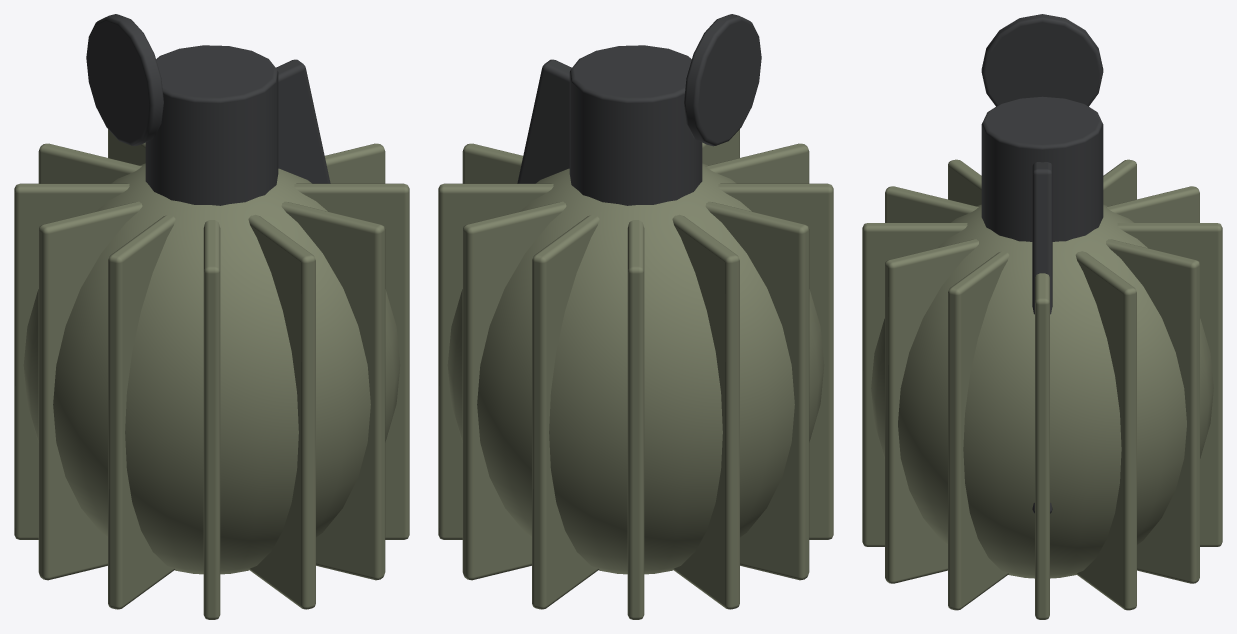
Rendered from shard_grenade.glb.
The picture shows the model from 3 angles, left to right: view 1: azimuth 30°, elevation 25°; view 2: azimuth 150°, elevation 25°; view 3: azimuth 270°, elevation 25°; orthographic projection. The views are drawn at different scales.
Visible parts, largest first — view 1: Body, Seg5, Fuse, Seg4, Seg0, Seg3, Seg1, Ring, Seg2, Spoon; view 2: Body, Seg1, Fuse, Seg2, Seg0, Seg3, Seg5, Ring, Seg4, Spoon; view 3: Body, Seg3, Fuse, Seg2, Seg4, Seg1, Seg5, Ring, Seg0, Spoon.
Boxes of the visible parts, bbox=[...] form: Body: bbox=[23, 163, 400, 574]; Seg5: bbox=[14, 183, 409, 539]; Fuse: bbox=[145, 45, 278, 205]; Seg4: bbox=[38, 143, 385, 580]; Seg0: bbox=[38, 143, 385, 580]; Seg3: bbox=[108, 129, 315, 609]; Seg1: bbox=[108, 214, 175, 609]; Ring: bbox=[86, 14, 163, 146]; Seg2: bbox=[203, 220, 220, 619]; Spoon: bbox=[276, 59, 330, 183]; Body: bbox=[447, 163, 824, 574]; Seg1: bbox=[438, 183, 833, 539]; Fuse: bbox=[569, 45, 702, 205]; Seg2: bbox=[462, 143, 809, 580]; Seg0: bbox=[462, 143, 809, 580]; Seg3: bbox=[532, 129, 739, 609]; Seg5: bbox=[672, 214, 739, 609]; Ring: bbox=[684, 14, 761, 146]; Seg4: bbox=[627, 220, 644, 619]; Spoon: bbox=[517, 59, 571, 183]; Body: bbox=[871, 204, 1213, 578]; Seg3: bbox=[862, 223, 1222, 546]; Fuse: bbox=[981, 96, 1103, 241]; Seg2: bbox=[885, 186, 1199, 583]; Seg4: bbox=[885, 186, 1199, 583]; Seg1: bbox=[948, 159, 1136, 610]; Seg5: bbox=[948, 159, 1136, 610]; Ring: bbox=[981, 14, 1103, 106]; Seg0: bbox=[1035, 273, 1049, 619]; Spoon: bbox=[1032, 162, 1052, 513].
Bounding box in the file's own units: 0.071 × 0.1111 × 0.071.
